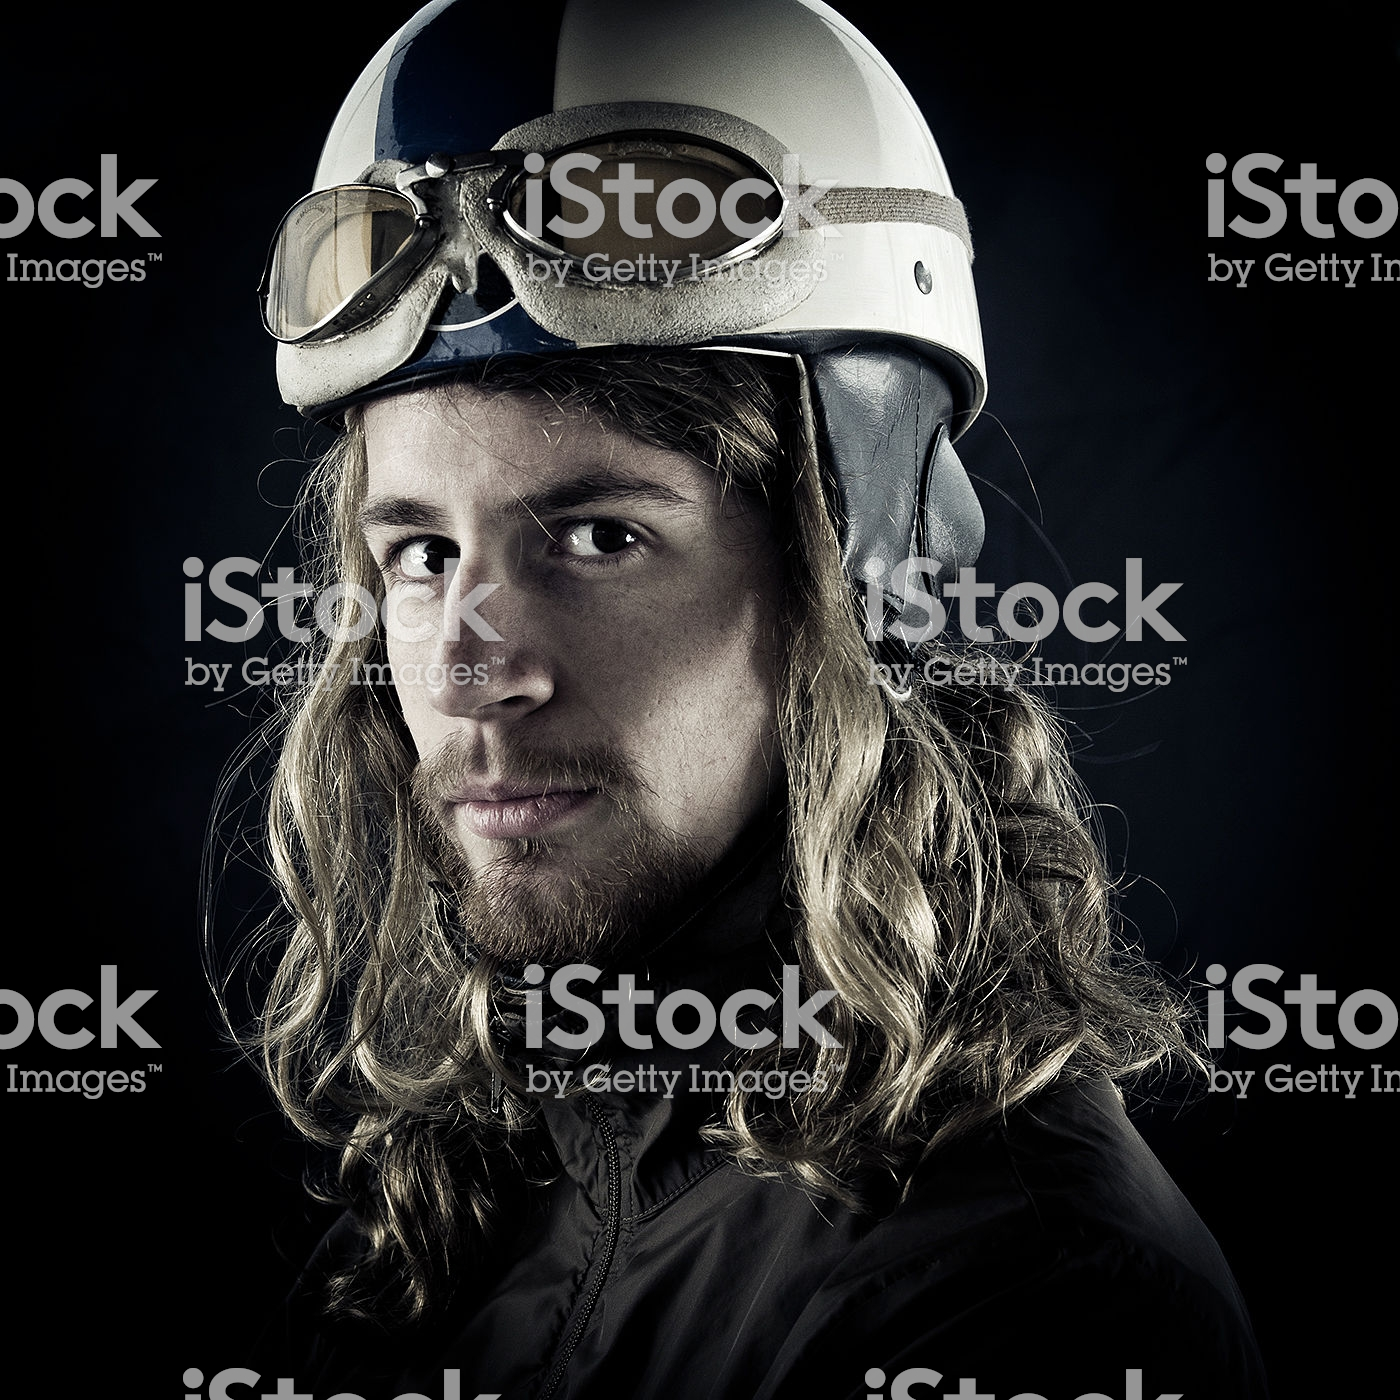helmet: (253, 18, 1047, 472)
